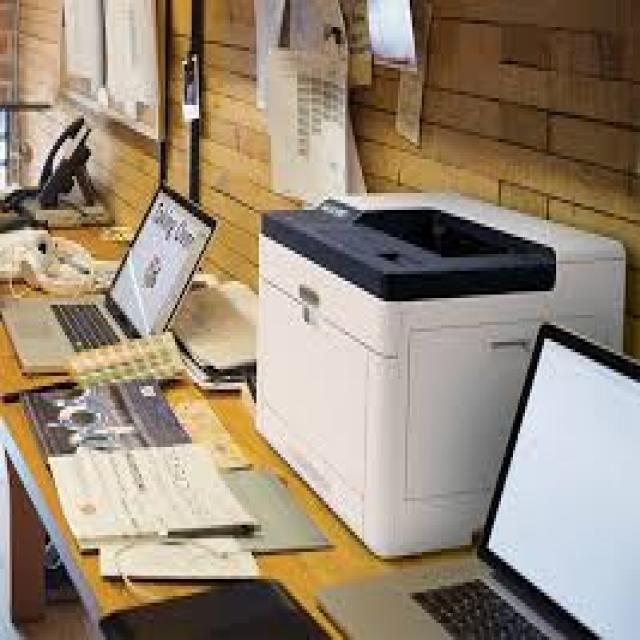printer: (253, 174, 640, 566)
